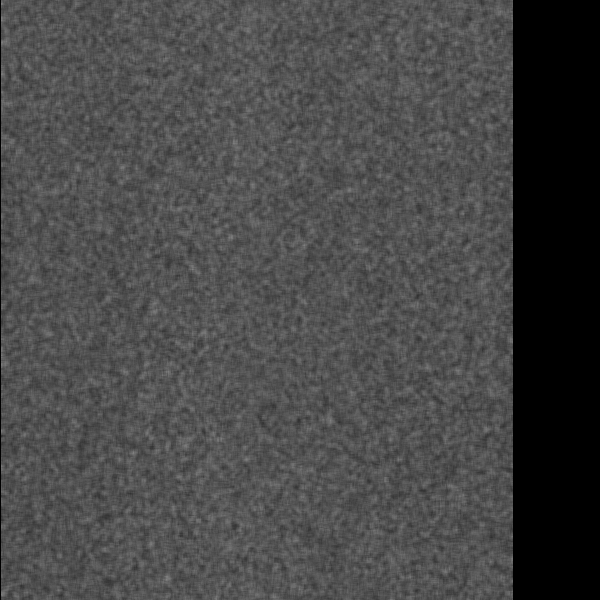spark: (150, 388, 201, 409), (143, 234, 163, 280)
